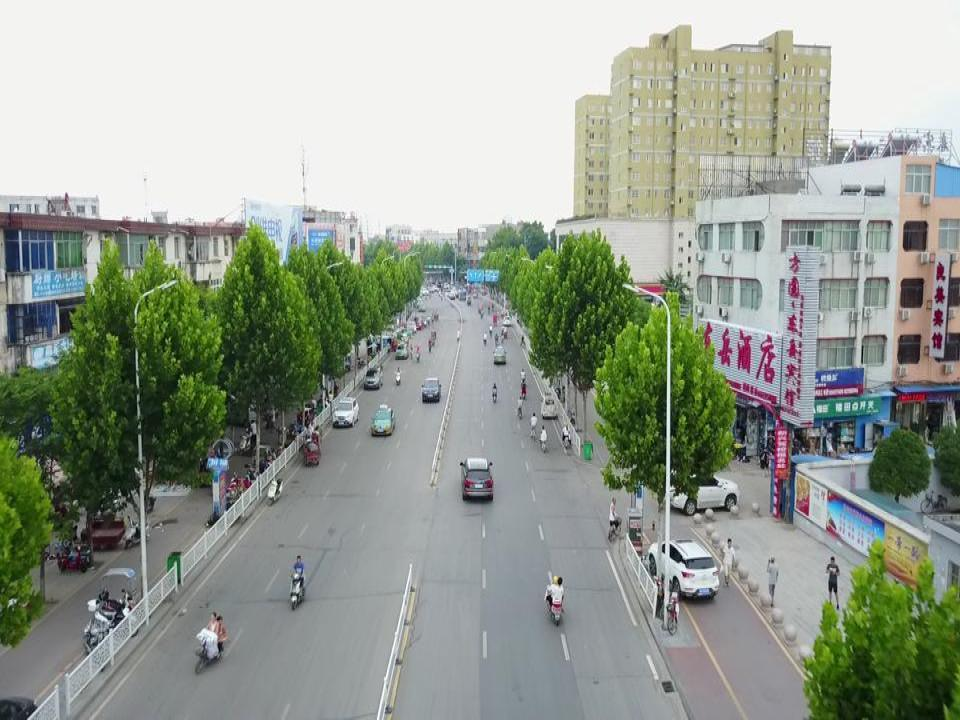car: (648, 537, 719, 600), (664, 466, 740, 514), (459, 457, 493, 500), (217, 400, 258, 428), (333, 397, 360, 427), (371, 405, 395, 435), (421, 379, 441, 401), (363, 367, 383, 389), (540, 392, 556, 419), (395, 341, 409, 359), (492, 347, 505, 364), (502, 316, 511, 327)
